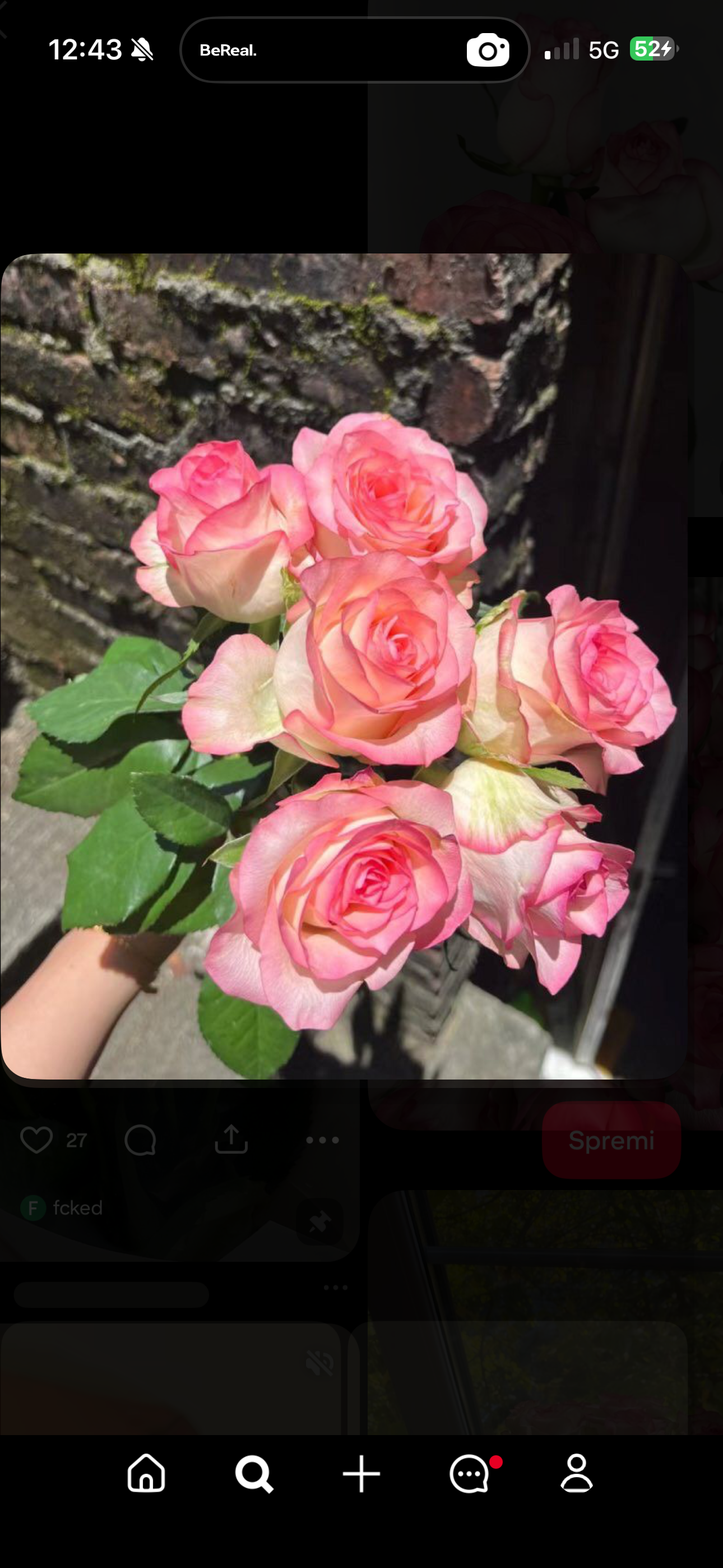rose: (196, 767, 463, 1033), (180, 550, 482, 773), (454, 578, 682, 796), (442, 756, 636, 998), (292, 409, 492, 579), (133, 429, 302, 624)
